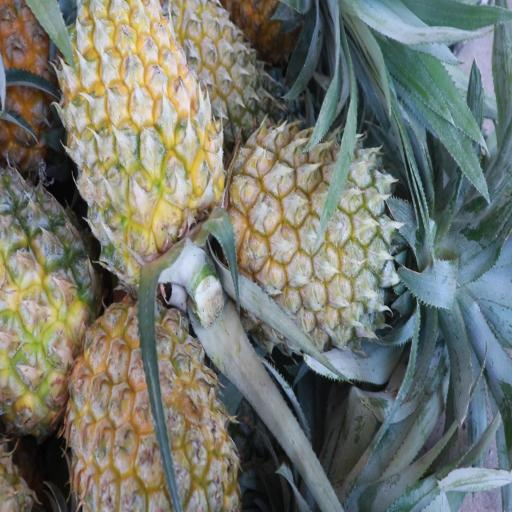------------------------------: (0, 168, 109, 444)
Pineapple - v8 v1: (59, 0, 233, 310), (218, 113, 424, 359), (62, 288, 248, 512)
